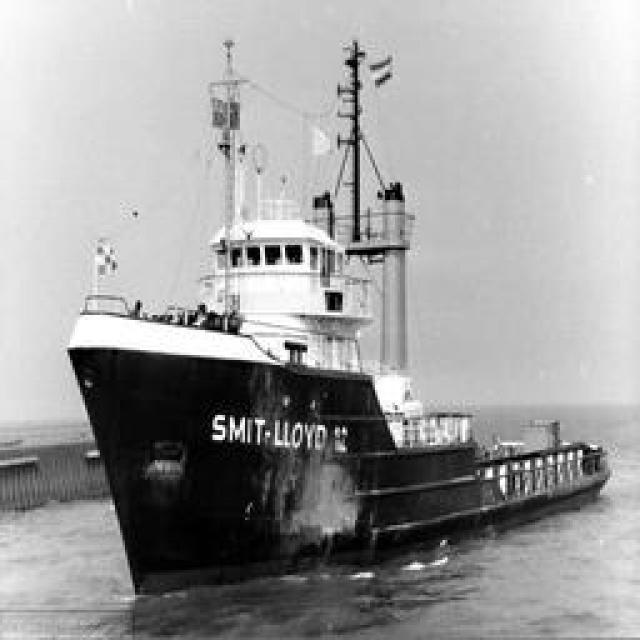Ship: (65, 31, 614, 605)
